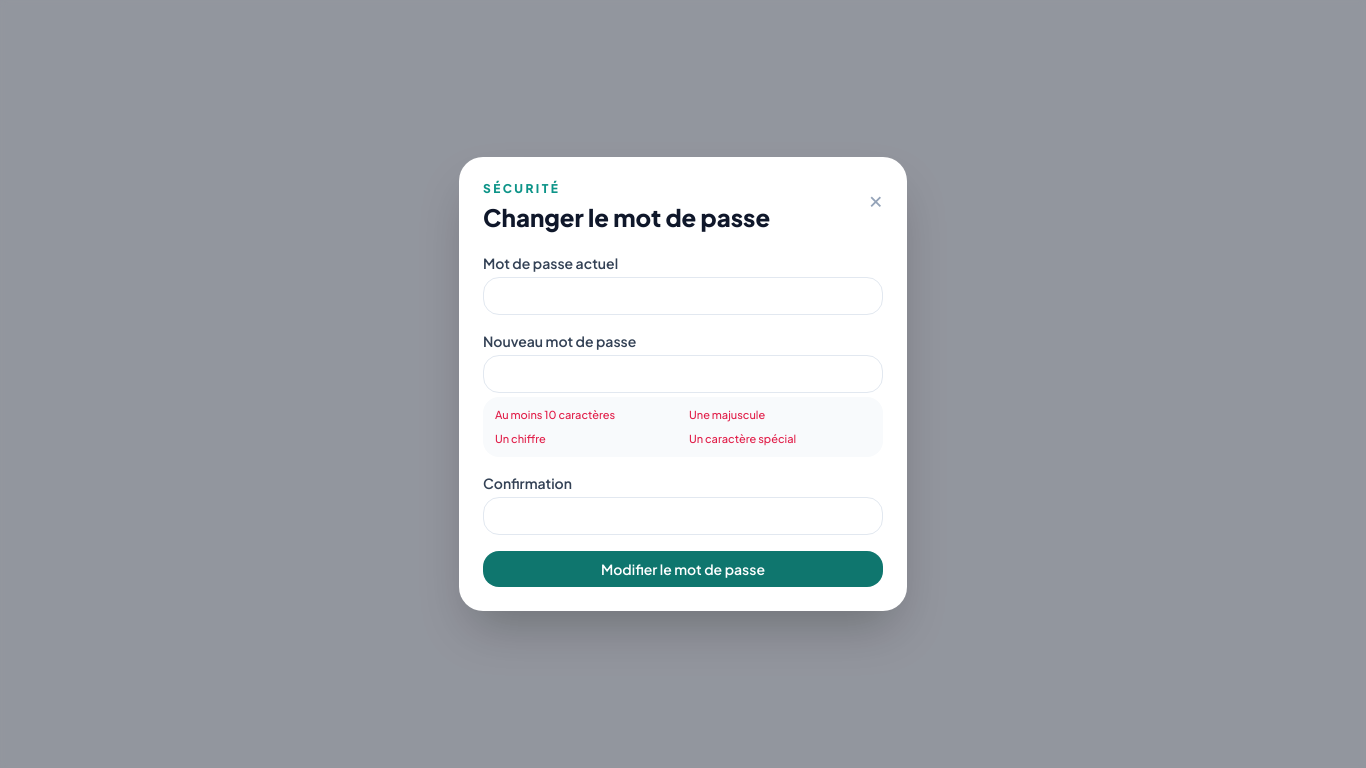
Test: ChangePasswordModal — politique de mot de passe › affiche le refus du serveur (mot de passe actuel incorrect)
Expected: the text "Au moins 10 caractères" is shown, [495,408,615,421]
In the password field labelled "Mot de passe actuel": point(683, 296) [483,277,883,315], type "faux"
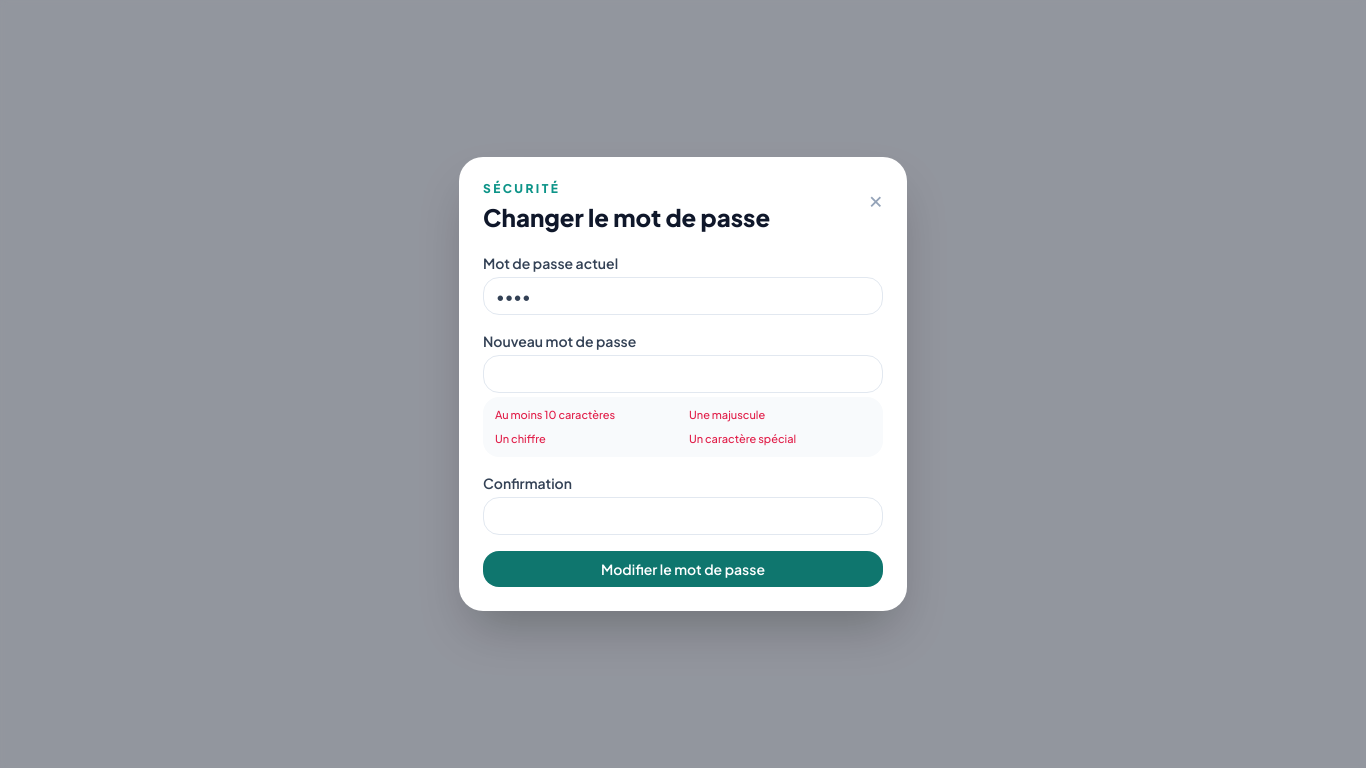
In the 2nd password field: point(683, 374) [483,355,883,393], type "Robuste-2026"
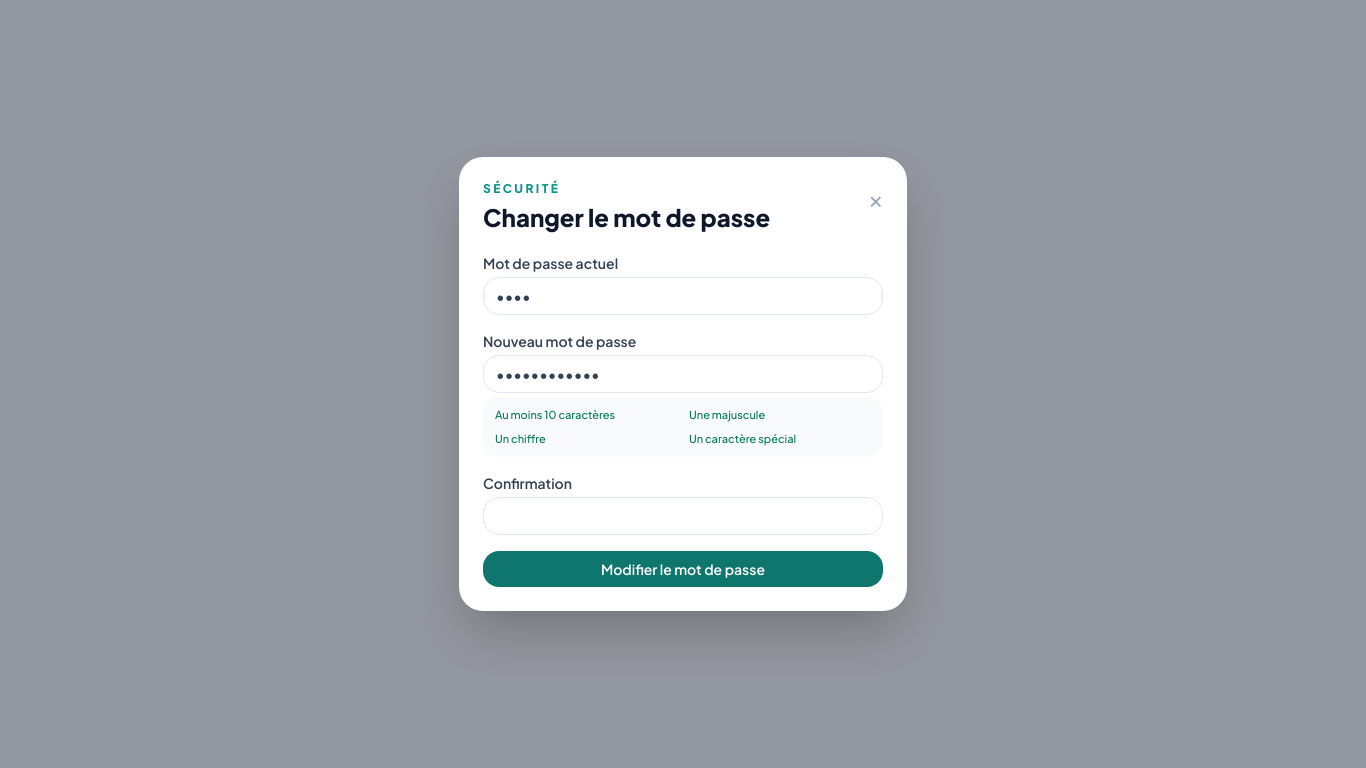
In the password field labelled "Confirmation": point(683, 516) [483,497,883,535], type "Robuste-2026"
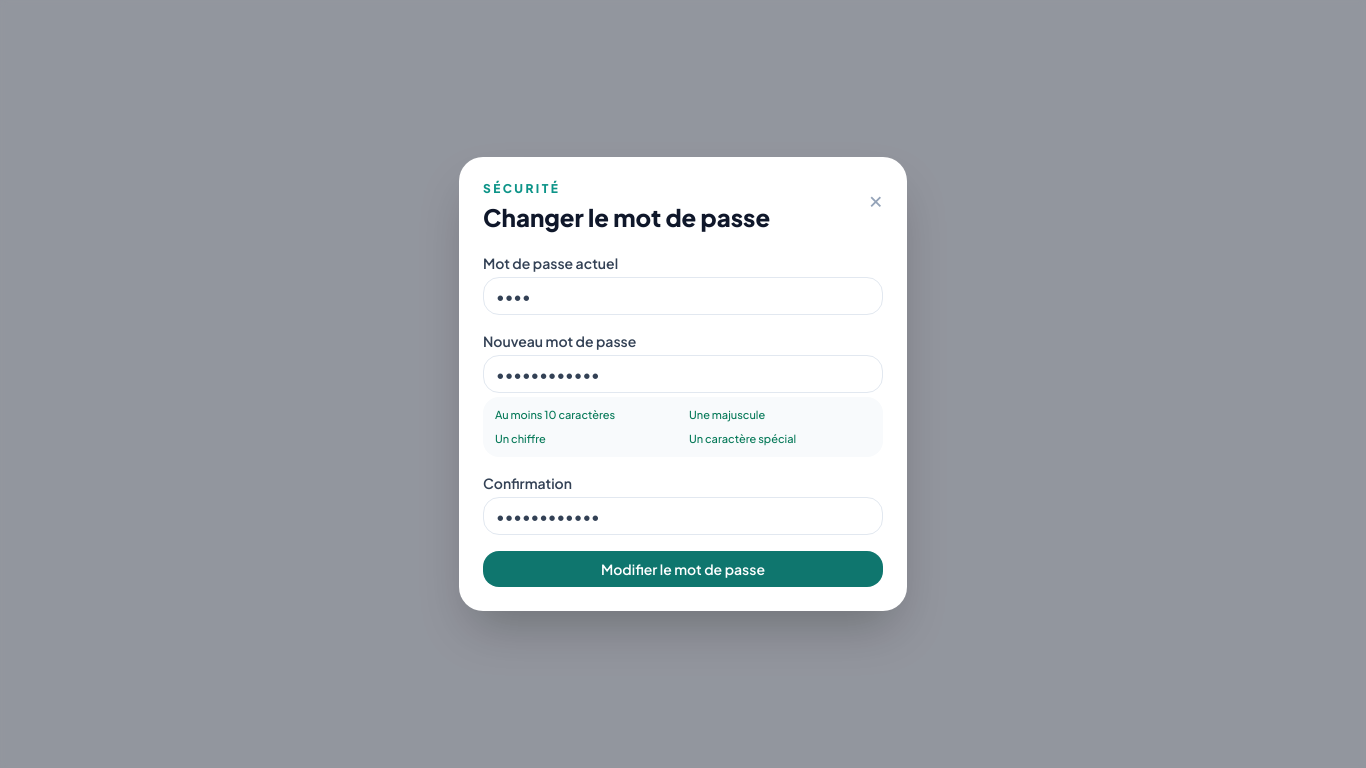
Submit the form, box [483,253,883,587]
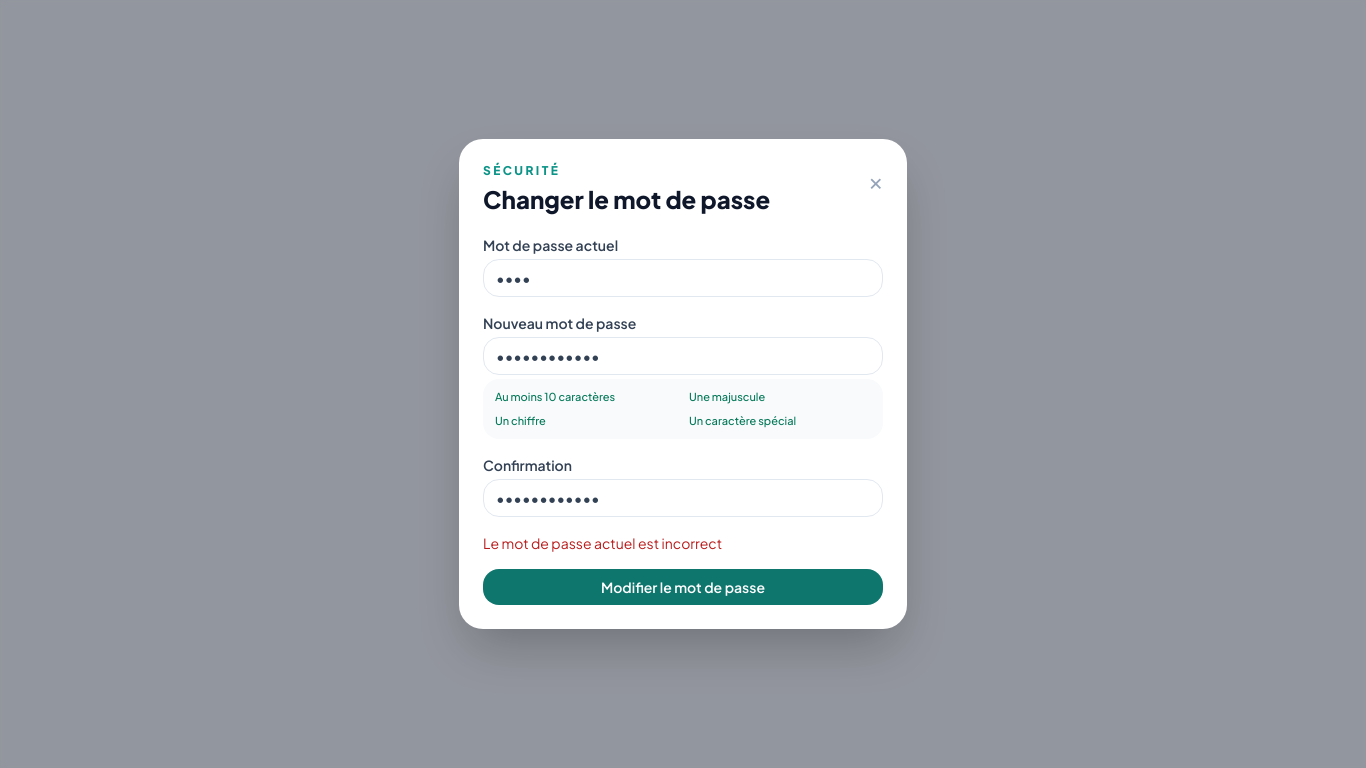
Expected: the message reads "Le mot de passe actuel est incorrect", [483,534,722,552]
